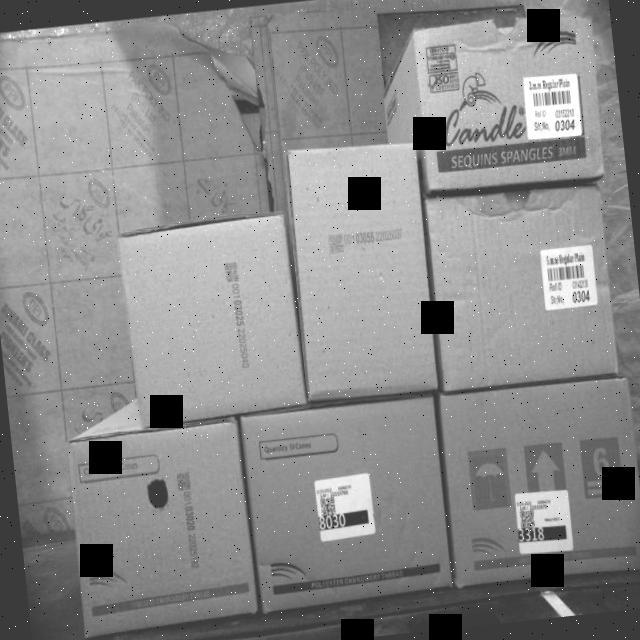box: (241, 391, 454, 606), (435, 373, 640, 586), (420, 177, 618, 389), (286, 132, 440, 404), (68, 422, 258, 635), (112, 210, 304, 420), (412, 4, 606, 192)
